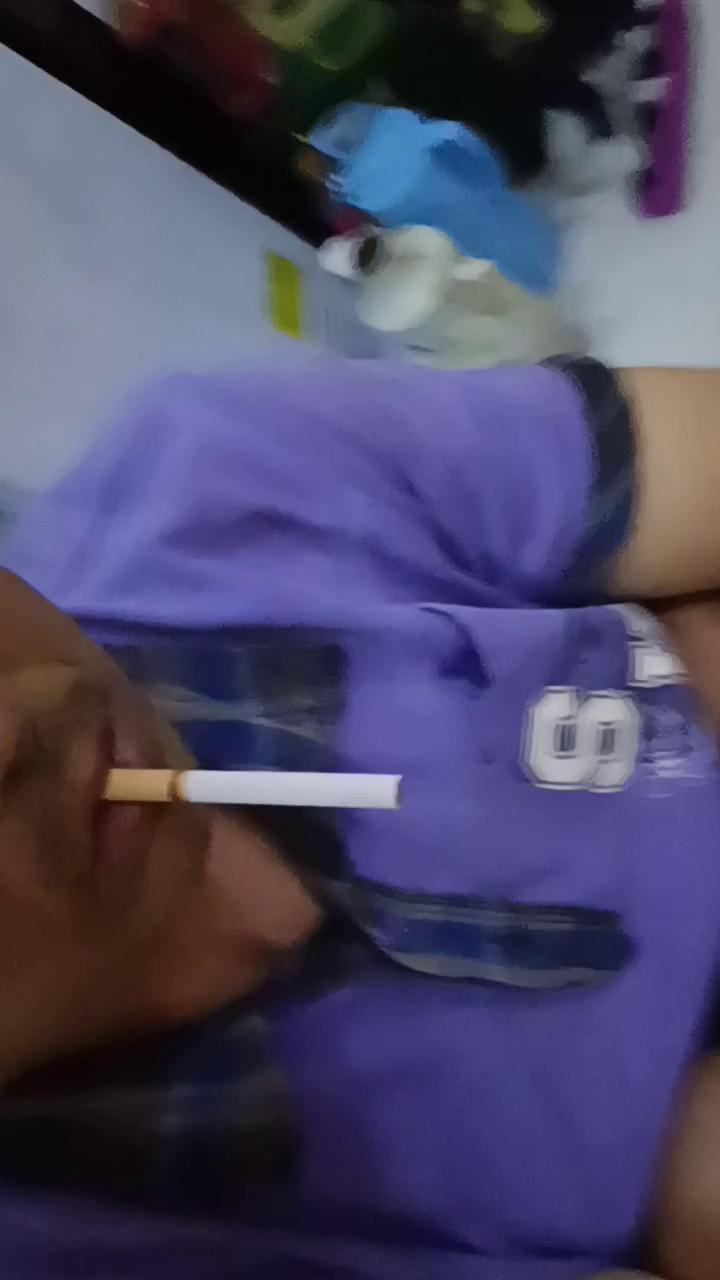smoke: (102, 766, 405, 812)
